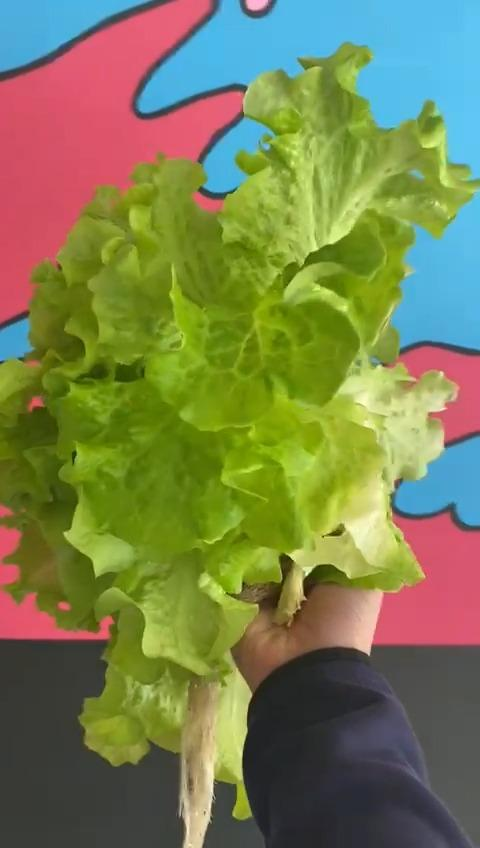Healthy: (0, 42, 480, 822)
